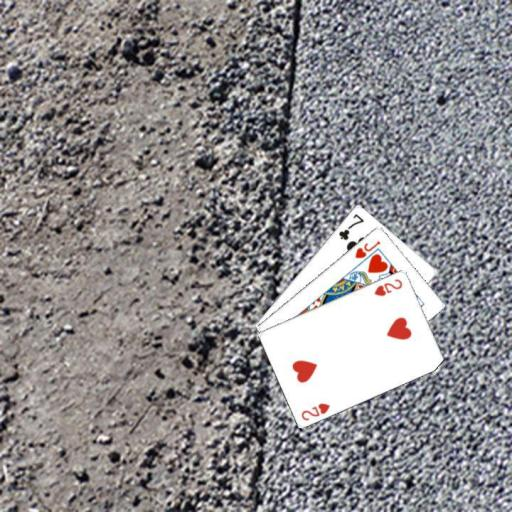2H: (371, 275, 404, 297), (298, 400, 331, 422)
7C: (335, 210, 365, 242)
JH: (352, 237, 382, 260)
